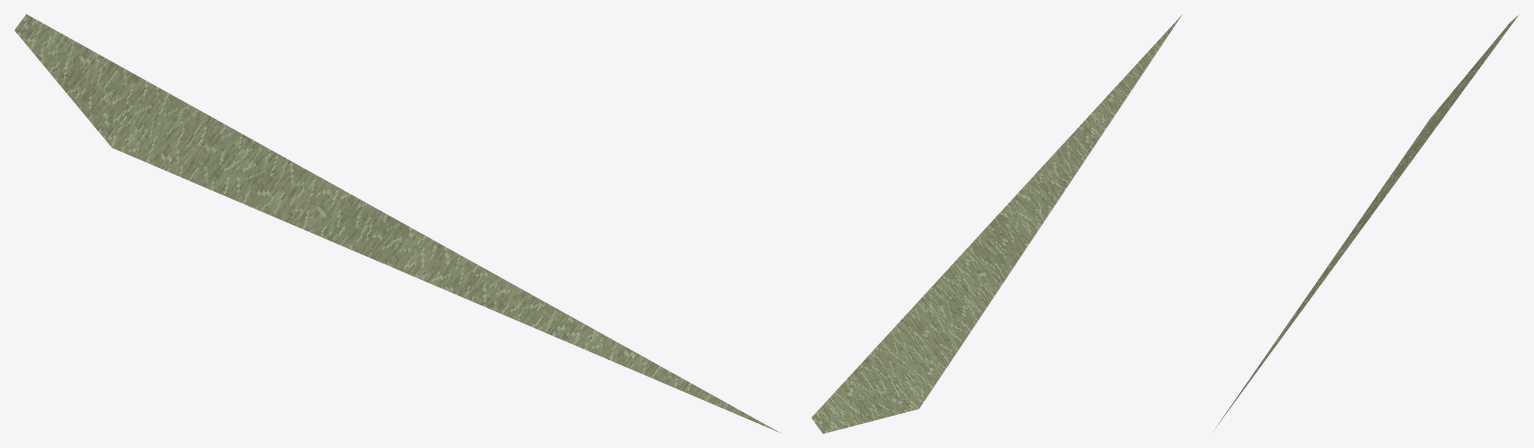
The model's file is kd_stage_135b75_4_140_bounded_piece_6.glb.
3 renders of one model, left to right at view 1: azimuth 30°, elevation 25°; view 2: azimuth 150°, elevation 25°; view 3: azimuth 330°, elevation 25°, orthographic. The views are drawn at different scales.
Visible parts, largest first — view 1: kd_stage_135b75_4_140_bounded_piece_6; view 2: kd_stage_135b75_4_140_bounded_piece_6; view 3: kd_stage_135b75_4_140_bounded_piece_6.
Boxes of the visible parts, left/top/right/bottom form: kd_stage_135b75_4_140_bounded_piece_6: left=14, top=14, right=779, bottom=432; kd_stage_135b75_4_140_bounded_piece_6: left=811, top=15, right=1181, bottom=433; kd_stage_135b75_4_140_bounded_piece_6: left=1215, top=15, right=1518, bottom=428.
Size of the model in its own units: 0.4217 by 0.1188 by 2.05.
1 material, 1 textured.
